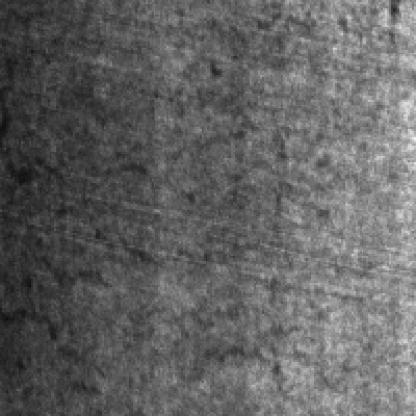crazing: (3, 147, 278, 280)
